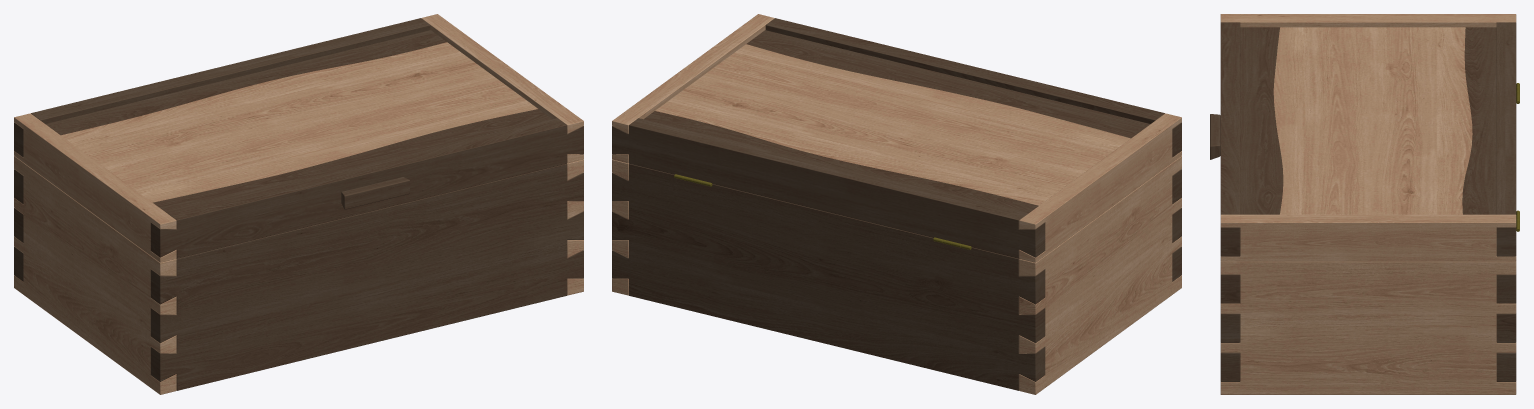
The picture shows the model from 3 angles, left to right: view 1: azimuth 30°, elevation 25°; view 2: azimuth 150°, elevation 25°; view 3: azimuth 270°, elevation 25°; orthographic projection.
Parts seen in each view (by area): view 1: front_1, top cover_5, front top_2, sides_7, sides top_4, handle_3; view 2: front_1, top cover_5, front top_2, sides_7, sides top_4; view 3: top cover_5, sides_7, sides top_4, front top_2, front_1, handle_3.
Boxes of the visible parts, x1,y1,x2,y2 form: front_1: (14,163,583,390); top cover_5: (45,30,551,213); front top_2: (14,18,583,258); sides_7: (14,156,583,394); sides top_4: (14,14,583,262); handle_3: (341,177,409,209); front_1: (612,163,1181,390); top cover_5: (644,30,1150,213); front top_2: (612,18,1181,258); sides_7: (612,156,1181,394); sides top_4: (612,14,1181,262); top cover_5: (1240,27,1496,214); sides_7: (1220,261,1516,394); sides top_4: (1220,14,1516,261); front top_2: (1220,22,1516,256); front_1: (1220,274,1516,381); handle_3: (1210,114,1220,159).
Size of the model in its own units: 0.5038 by 0.1941 by 0.3161.
5 materials, 3 textured.
